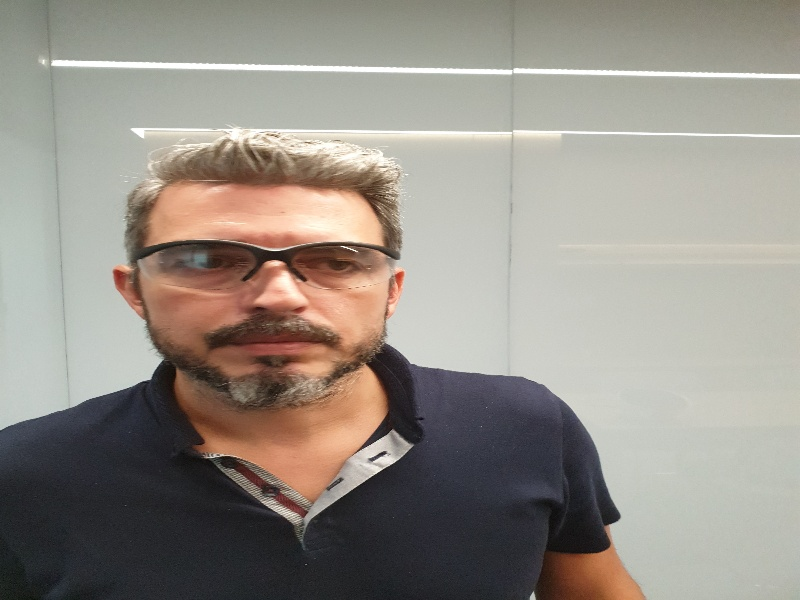Gozluk: (137, 239, 404, 292)
